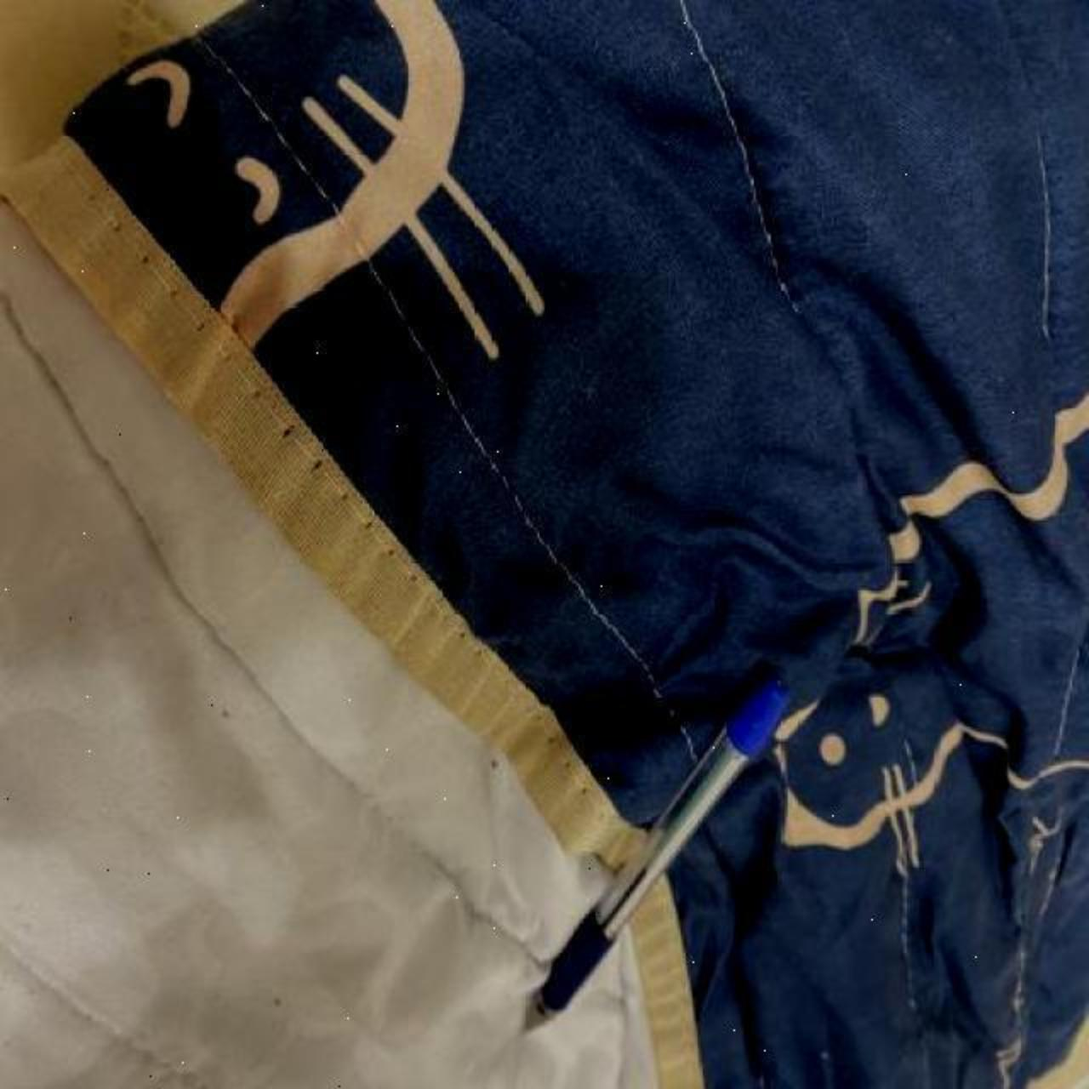pen: (516, 674, 788, 1038)
